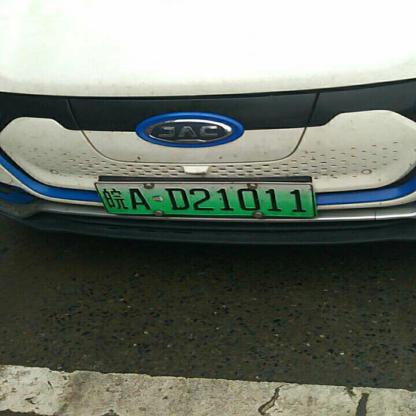lp: (96, 182, 316, 216)
